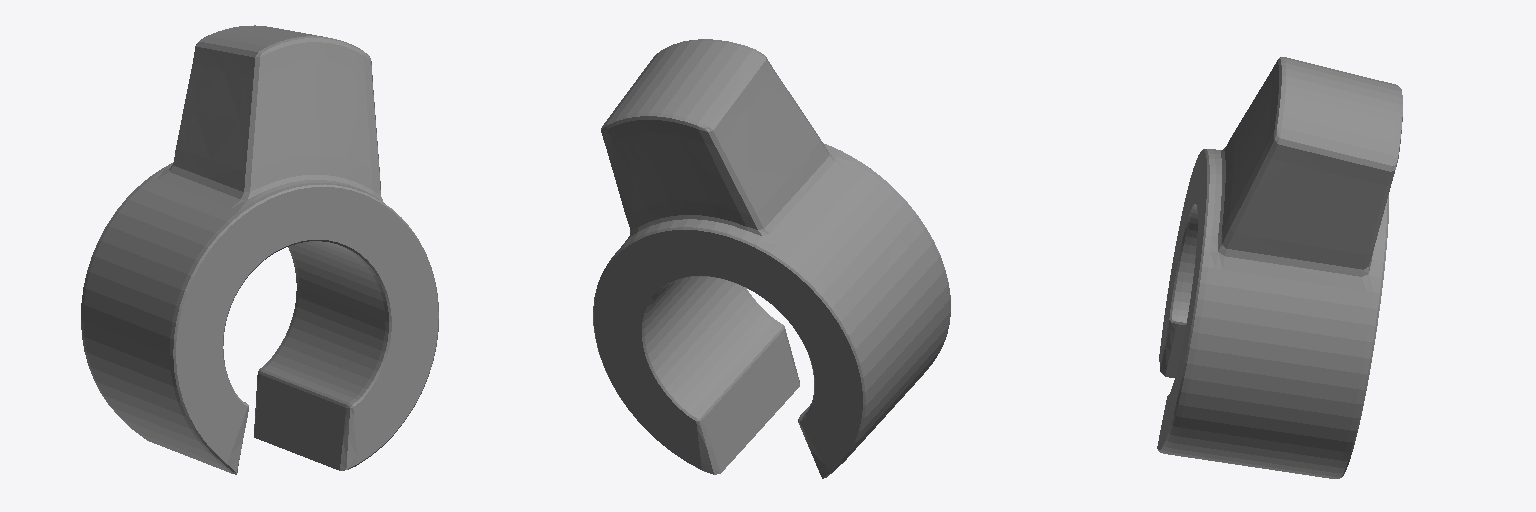
Rendered from ManoDer.obj.
3 views of the same model, side by side, from view 1: azimuth 30°, elevation 25°; view 2: azimuth 150°, elevation 25°; view 3: azimuth 270°, elevation 25° (orthographic).
Parts seen in each view (by area): view 1: ManoDer; view 2: ManoDer; view 3: ManoDer.
Boxes of the visible parts, x1=… form: ManoDer: x1=81, y1=25, x2=438, y2=474; ManoDer: x1=593, y1=39, x2=950, y2=478; ManoDer: x1=1157, y1=57, x2=1402, y2=478.
Size of the model in its own units: 7.59 by 10.96 by 5.94.